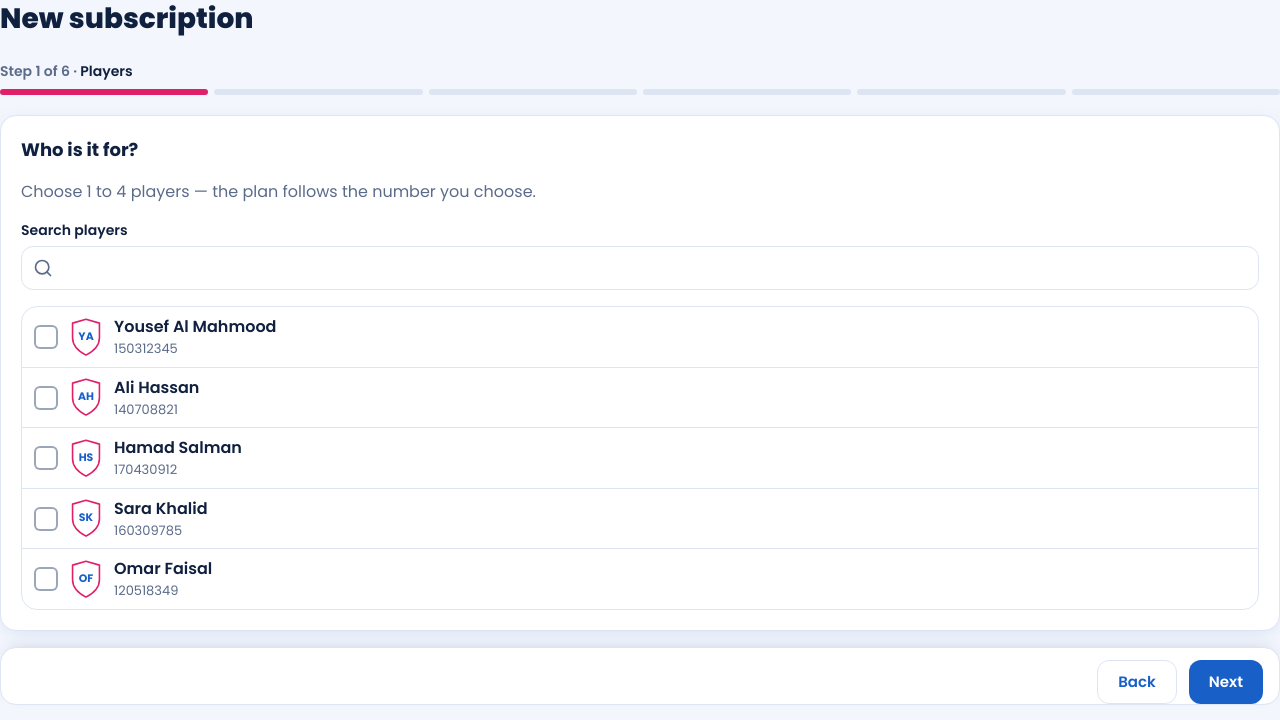
NewSubscriptionPage › step 1 — players › will not continue without a player
Expected: the checkbox named "Yousef Al Mahmood" is shown, [24,315,68,359]
Click the button "Next" at (1226, 682), box [1189,660,1263,704]
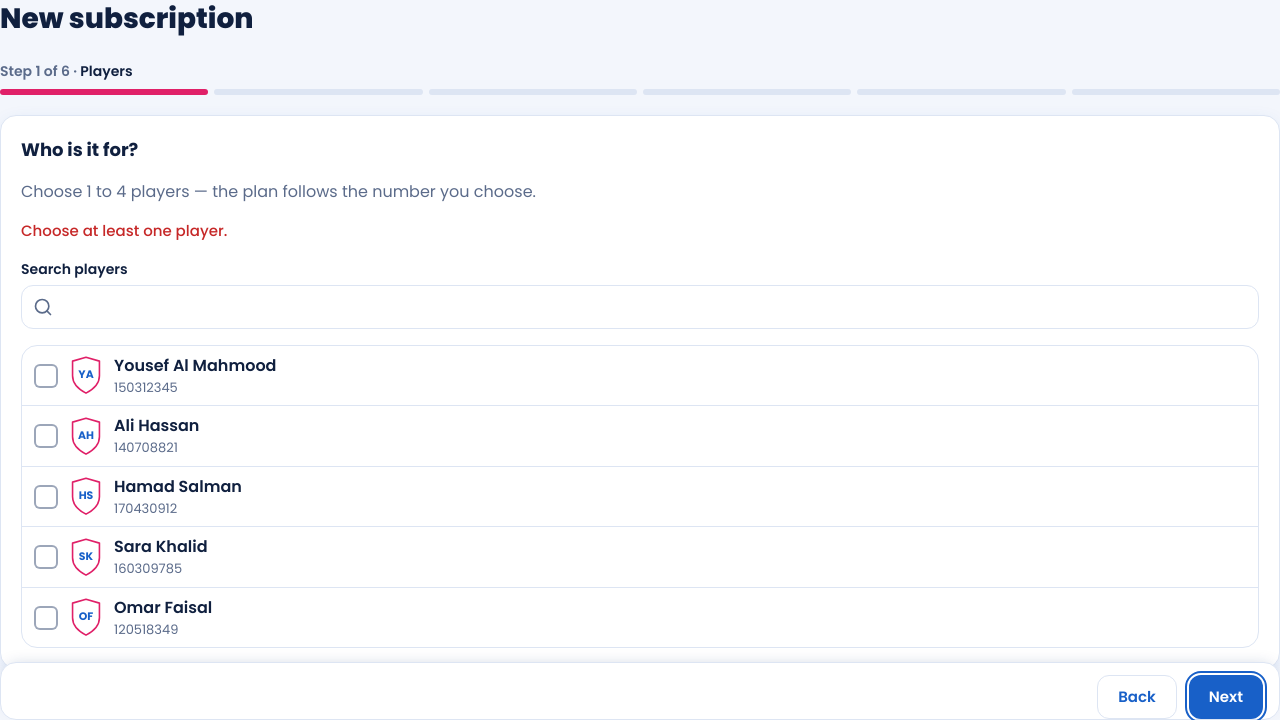
Expected: the text "Step 1 of 6" is shown, [0,61,70,81]
Now the message reads "Choose at least one player.", box [21,220,227,241]
